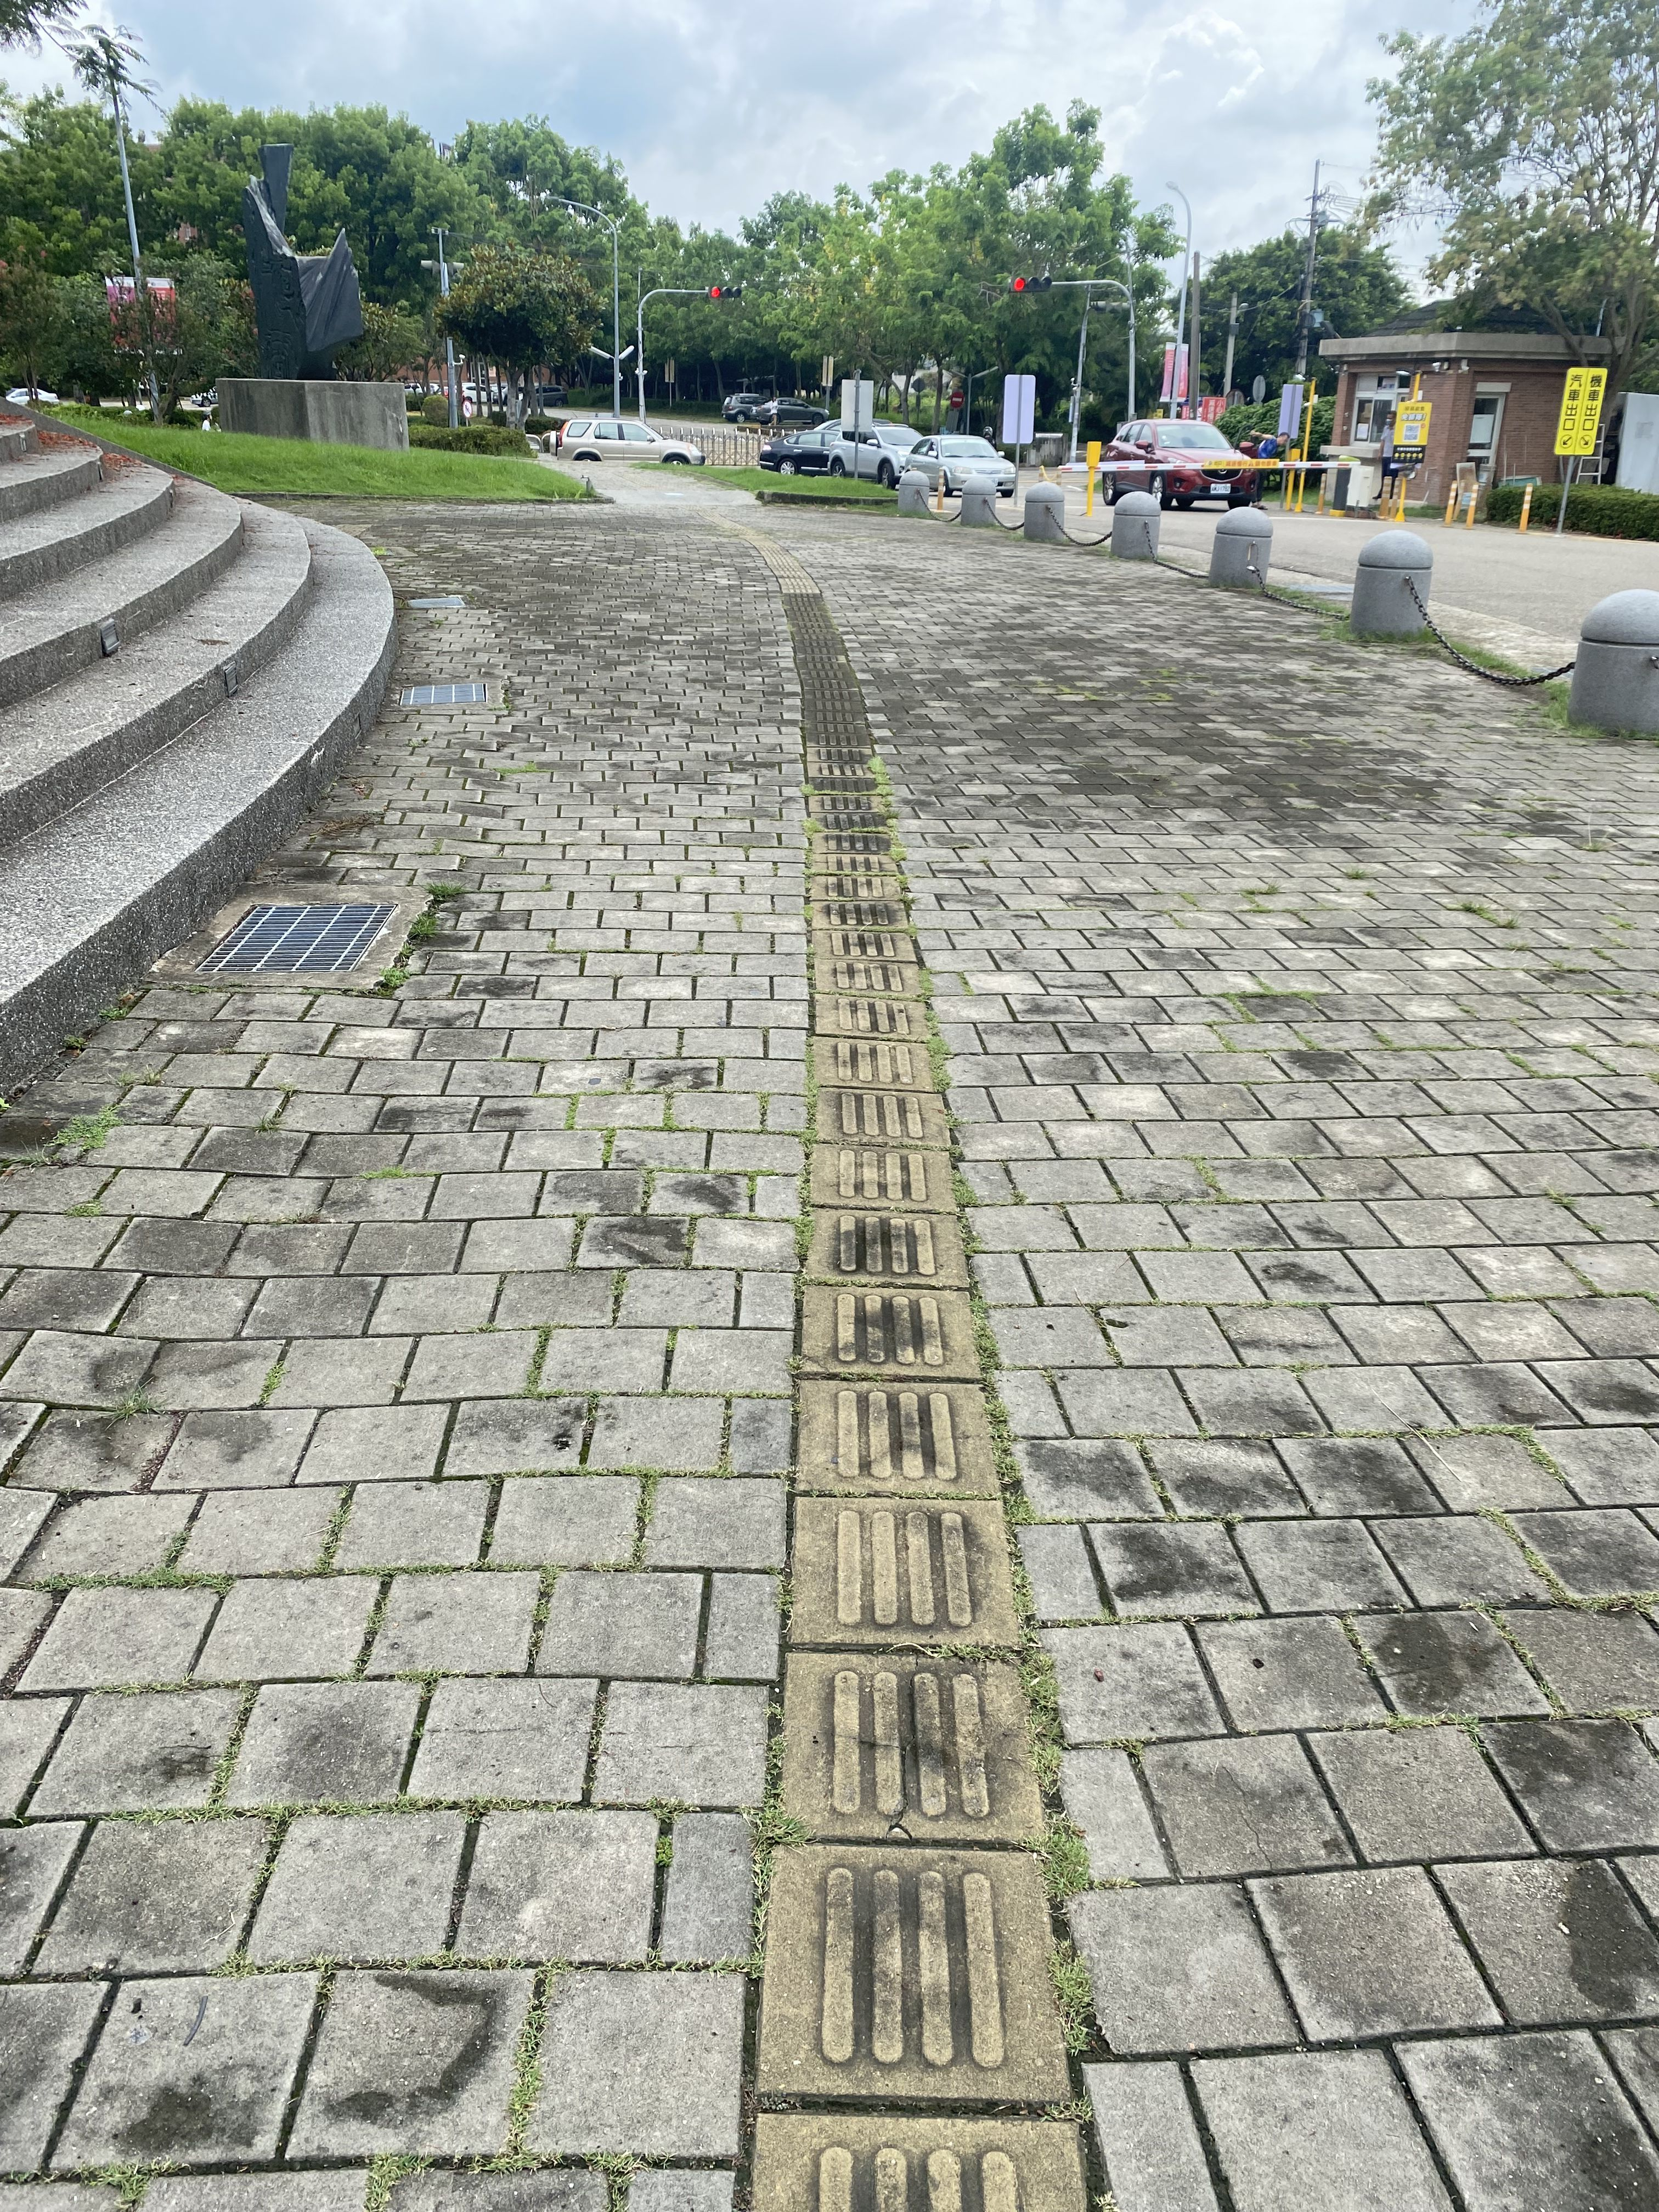sidewalk: (10, 493, 1659, 2212)
